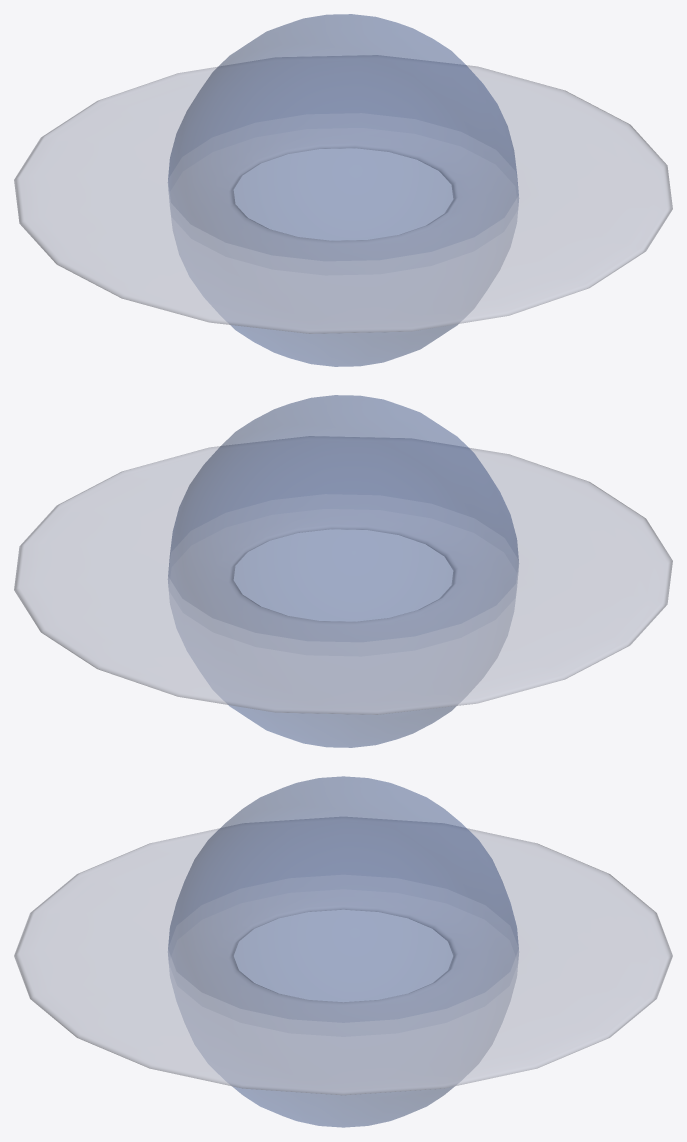
Rendered from planet2.glb.
3 renders of one model, top to bottom at view 1: azimuth 30°, elevation 25°; view 2: azimuth 150°, elevation 25°; view 3: azimuth 270°, elevation 25°, orthographic.
Parts seen in each view (by area): view 1: planet1; view 2: planet1; view 3: planet1.
Part boxes in pixels (left/top/right/bottom): planet1: left=14, top=14, right=672, bottom=366; planet1: left=14, top=395, right=672, bottom=747; planet1: left=14, top=776, right=672, bottom=1127.
Size of the model in its own units: 7.5 by 4 by 7.5.
